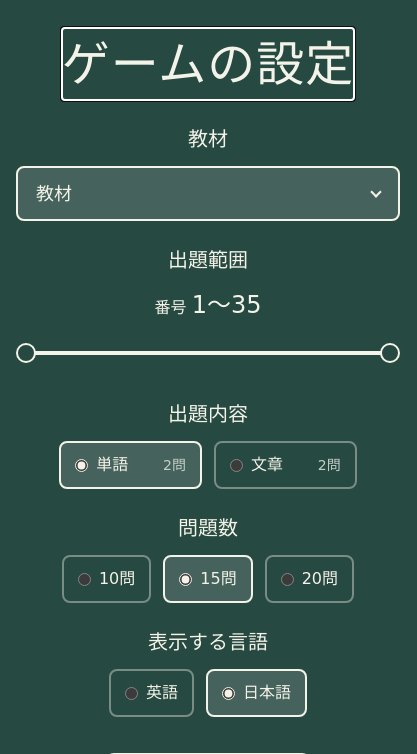
switches to sentences when the range has no words and explains the change
Set the slider named "開始番号" to "2" at [269, 353], box [16,331,400,375]
(page scrolled)
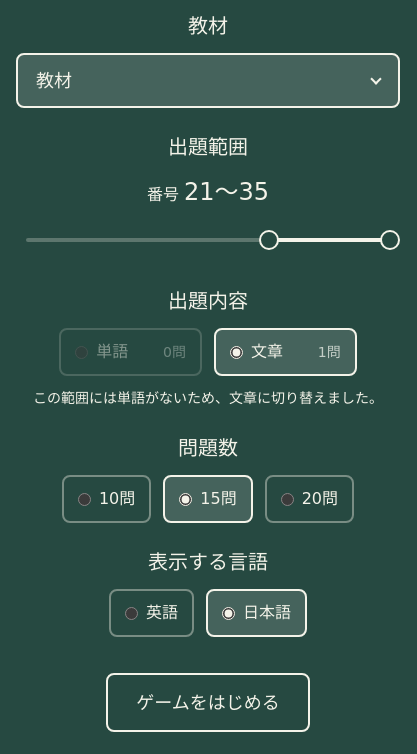
Expected: the radio button labelled "単語" is disabled, [75,346,88,358]
Expected: the radio button labelled "文章" is checked, [230,346,243,358]
Expected: the message shows "文章に切り替えました", [33,390,383,406]
